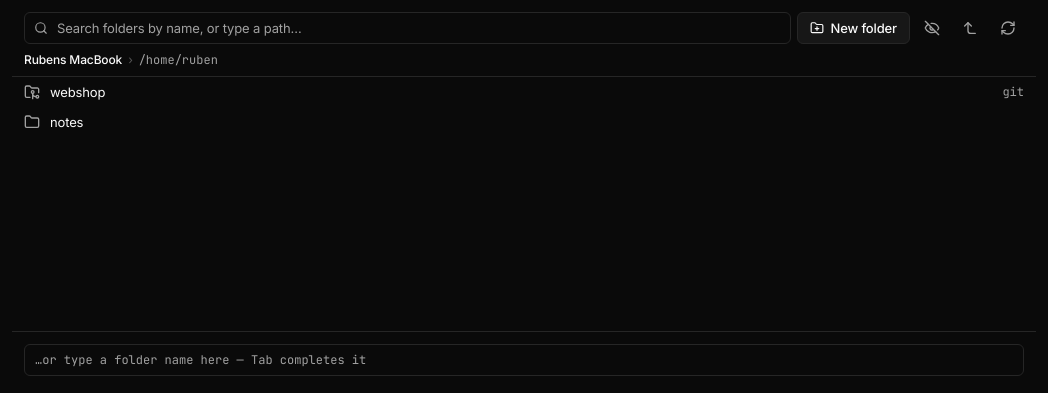
Test: typing a path › Tab completes and leaves the next segment ready to type
Expected: the text "webshop" is shown, [50, 84, 105, 100]
Type "web" into the field with test id "folder-path-input" at coordinates (524, 360), box [24, 344, 1024, 376]
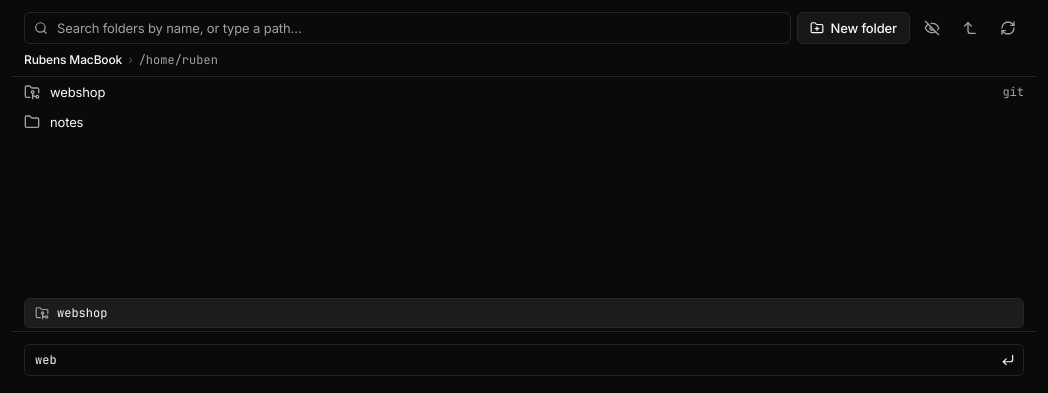
Expected: the list with test id "path-suggestions" is shown, [24, 298, 1024, 328]
Press Tab in the field with test id "folder-path-input", box [24, 344, 1024, 376]
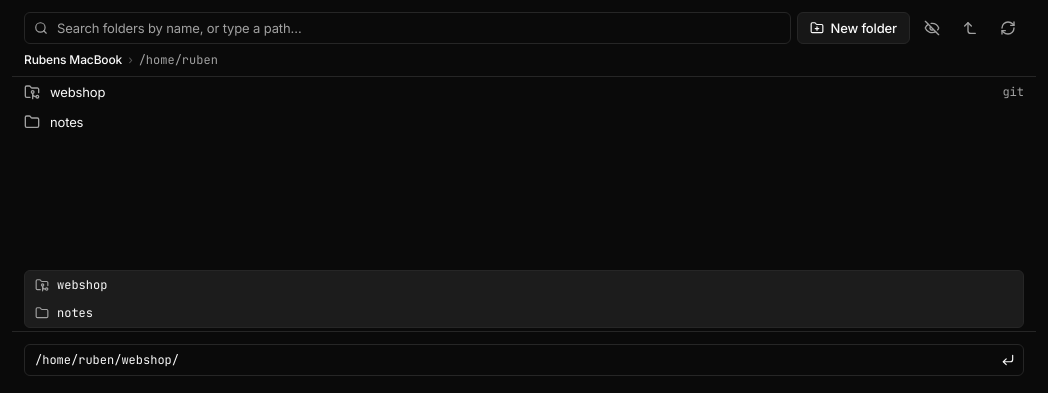
Expected: the field with test id "folder-path-input" holds "/home/ruben/webshop/", [24, 344, 1024, 376]
